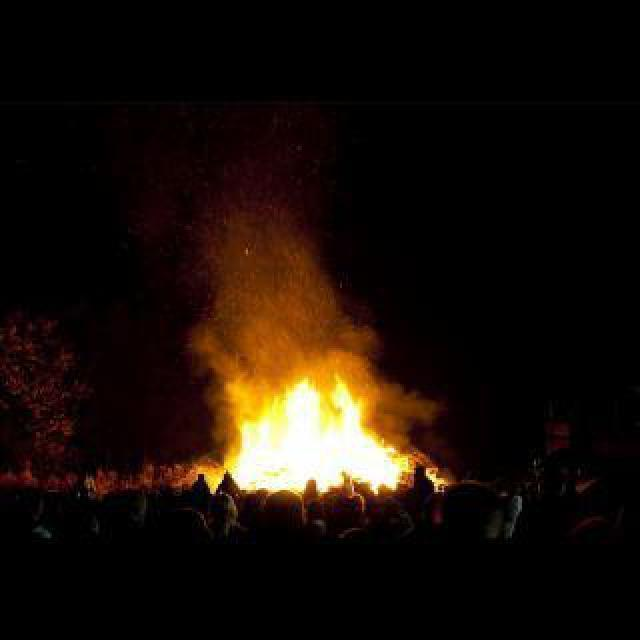Fire: (225, 372, 412, 486)
